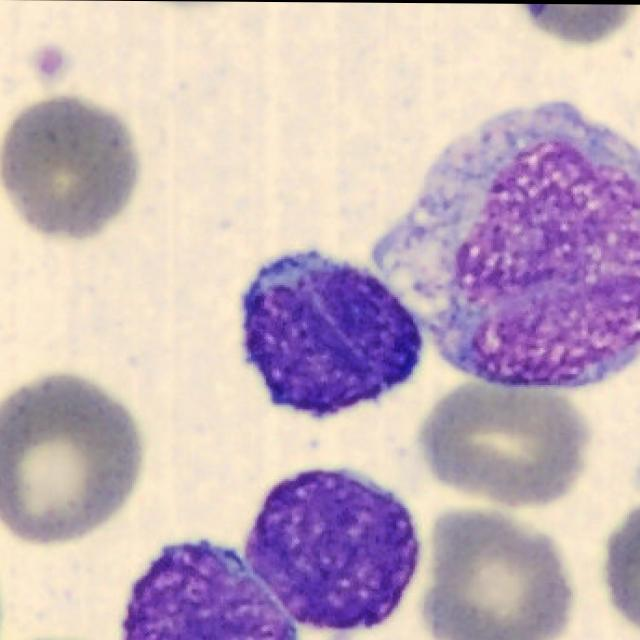Linfocito: (242, 252, 420, 416), (242, 470, 420, 633)
Monocito: (367, 101, 640, 392)
